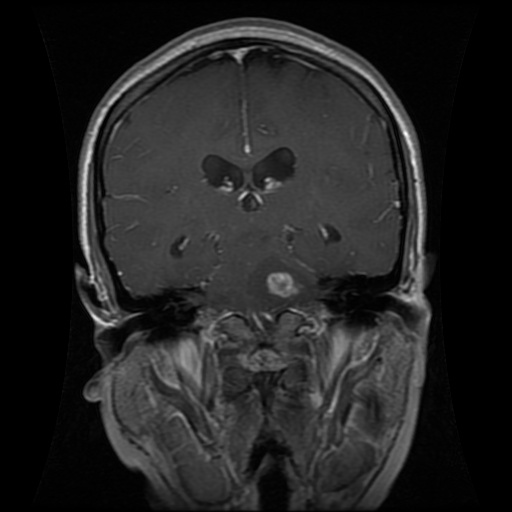glioma: (245, 253, 318, 310)
